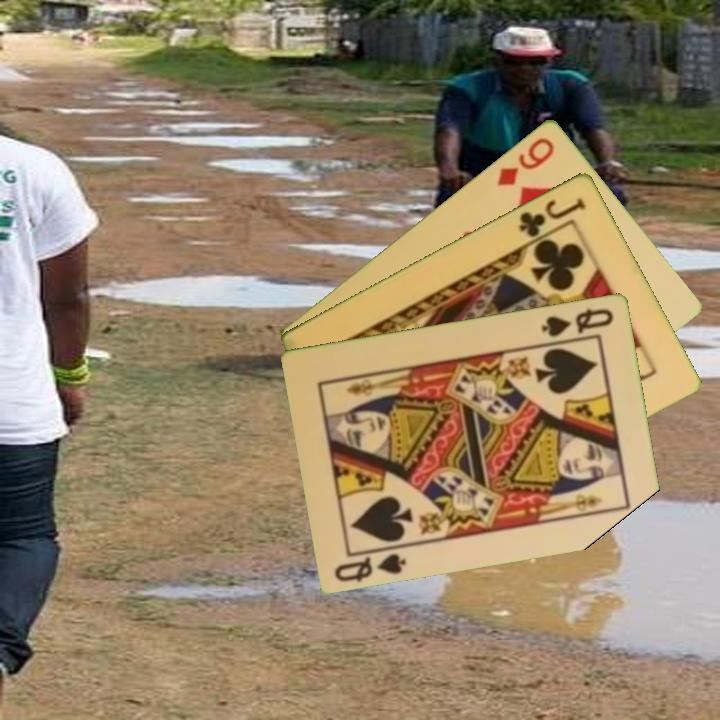9d: (493, 133, 558, 189)
Jc: (515, 193, 589, 240)
Qs: (538, 304, 617, 340), (331, 549, 410, 584)
